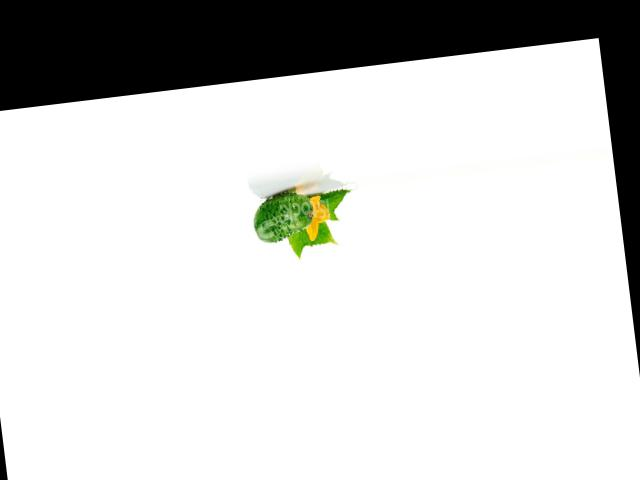cucumber: (250, 190, 314, 244)
